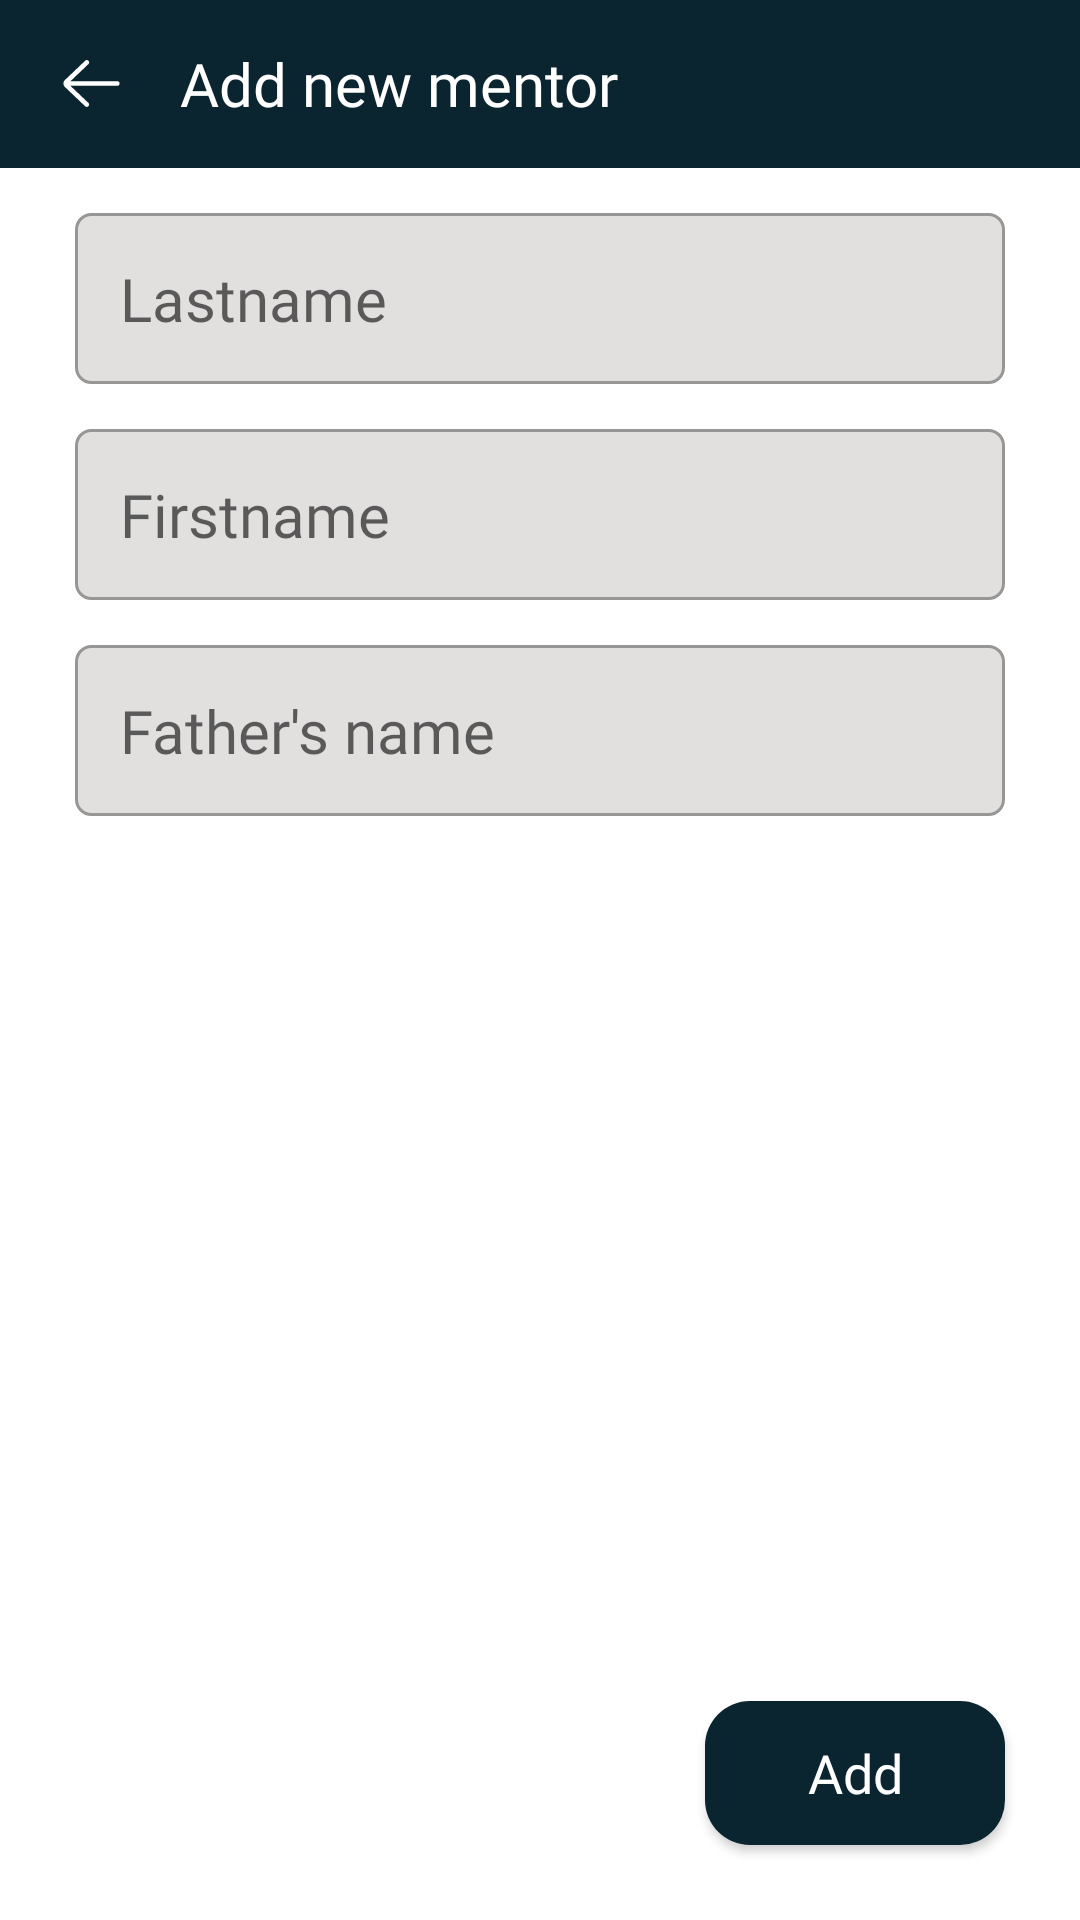

Locate icon controls on the screen. Image size 1080 x 1920, boxes as (x1, y1, x2, y2).
back: (63, 60, 120, 107)
